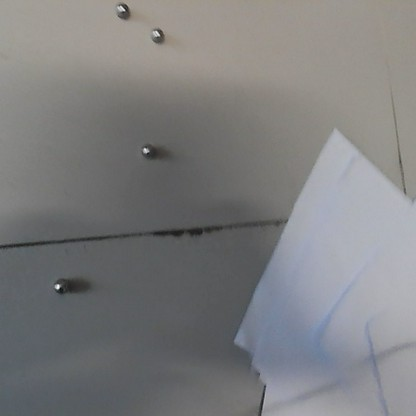ironball: (54, 279, 68, 295), (150, 27, 163, 42), (115, 4, 127, 17), (142, 144, 152, 156)
